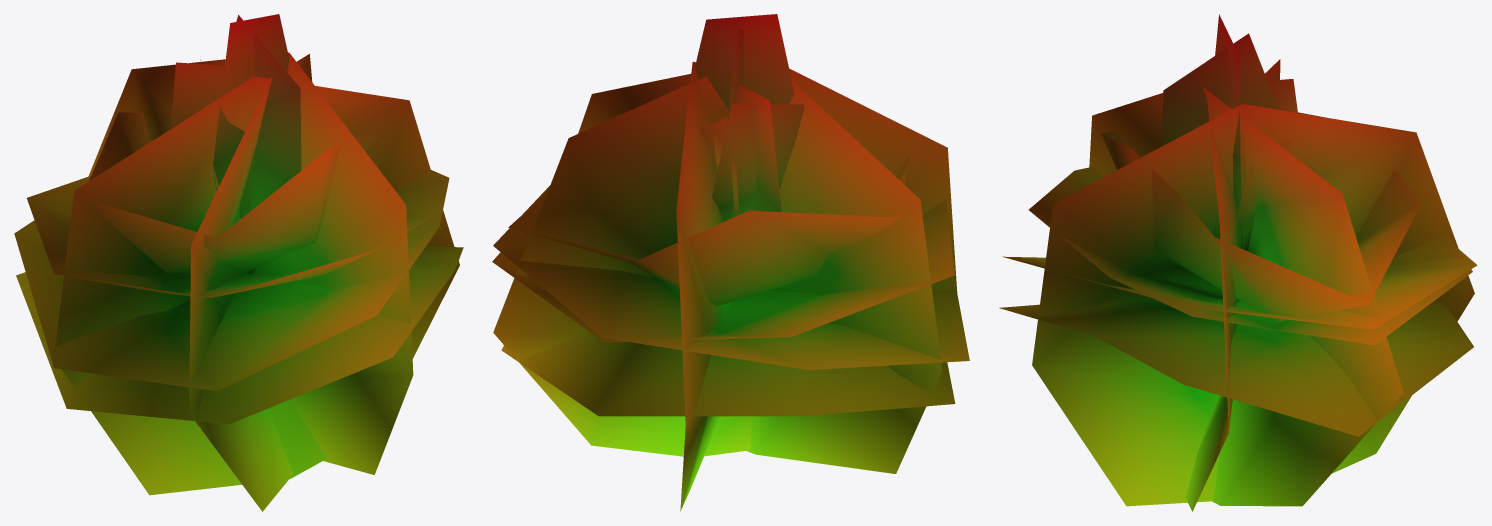
The model's file is Joshua1.fbx.
3 renders of one model, left to right at view 1: azimuth 30°, elevation 25°; view 2: azimuth 150°, elevation 25°; view 3: azimuth 270°, elevation 25°, orthographic. The views are drawn at different scales.
Parts seen in each view (by area): view 1: Joshua1_LOD0; view 2: Joshua1_LOD0; view 3: Joshua1_LOD0.
Boxes of the visible parts, x1,y1,x2,y2 form: Joshua1_LOD0: [14, 14, 463, 511]; Joshua1_LOD0: [492, 14, 969, 511]; Joshua1_LOD0: [999, 14, 1477, 511].
Size of what is drawn, in the model's own units: 114 by 119 by 113.
